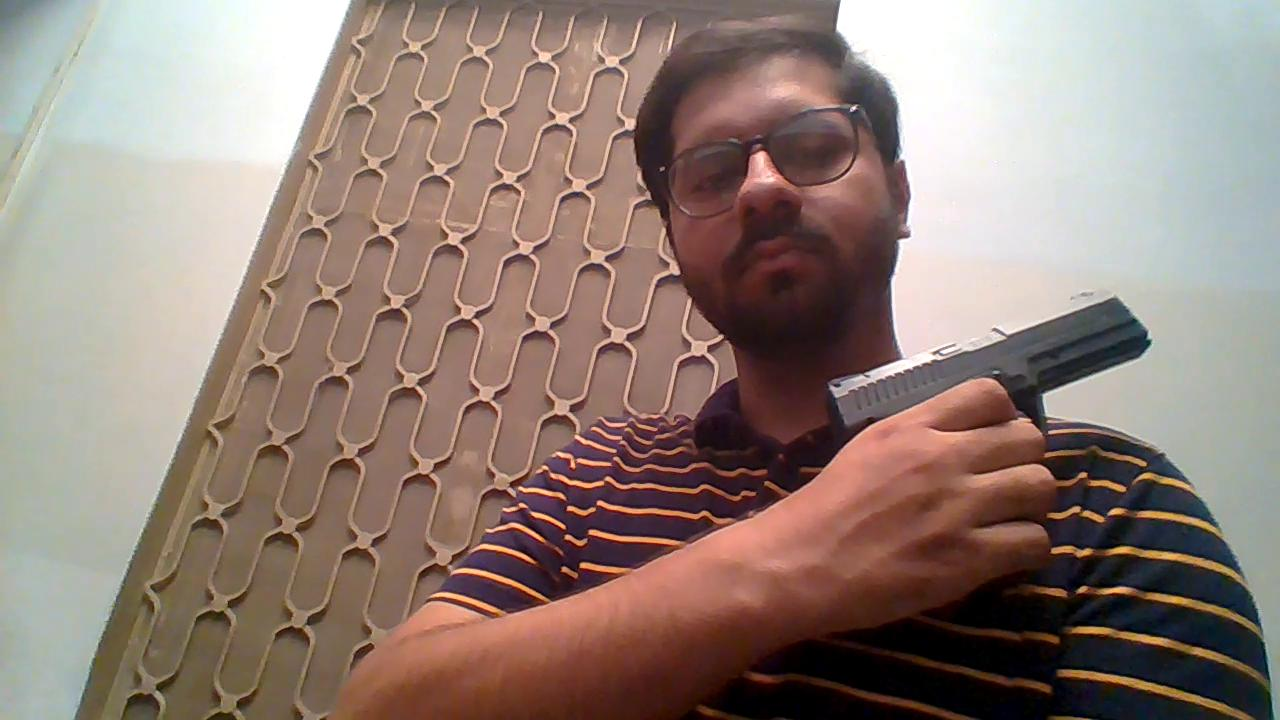criminal: (329, 15, 1271, 720)
weapon: (823, 285, 1154, 445)
